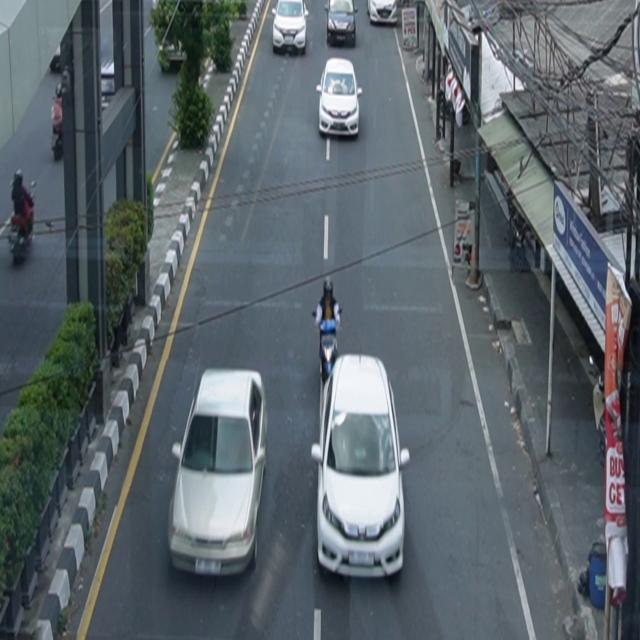car: (312, 354, 411, 580), (168, 369, 269, 579), (317, 58, 363, 139), (272, 1, 310, 56), (325, 1, 359, 48), (367, 1, 398, 26)
